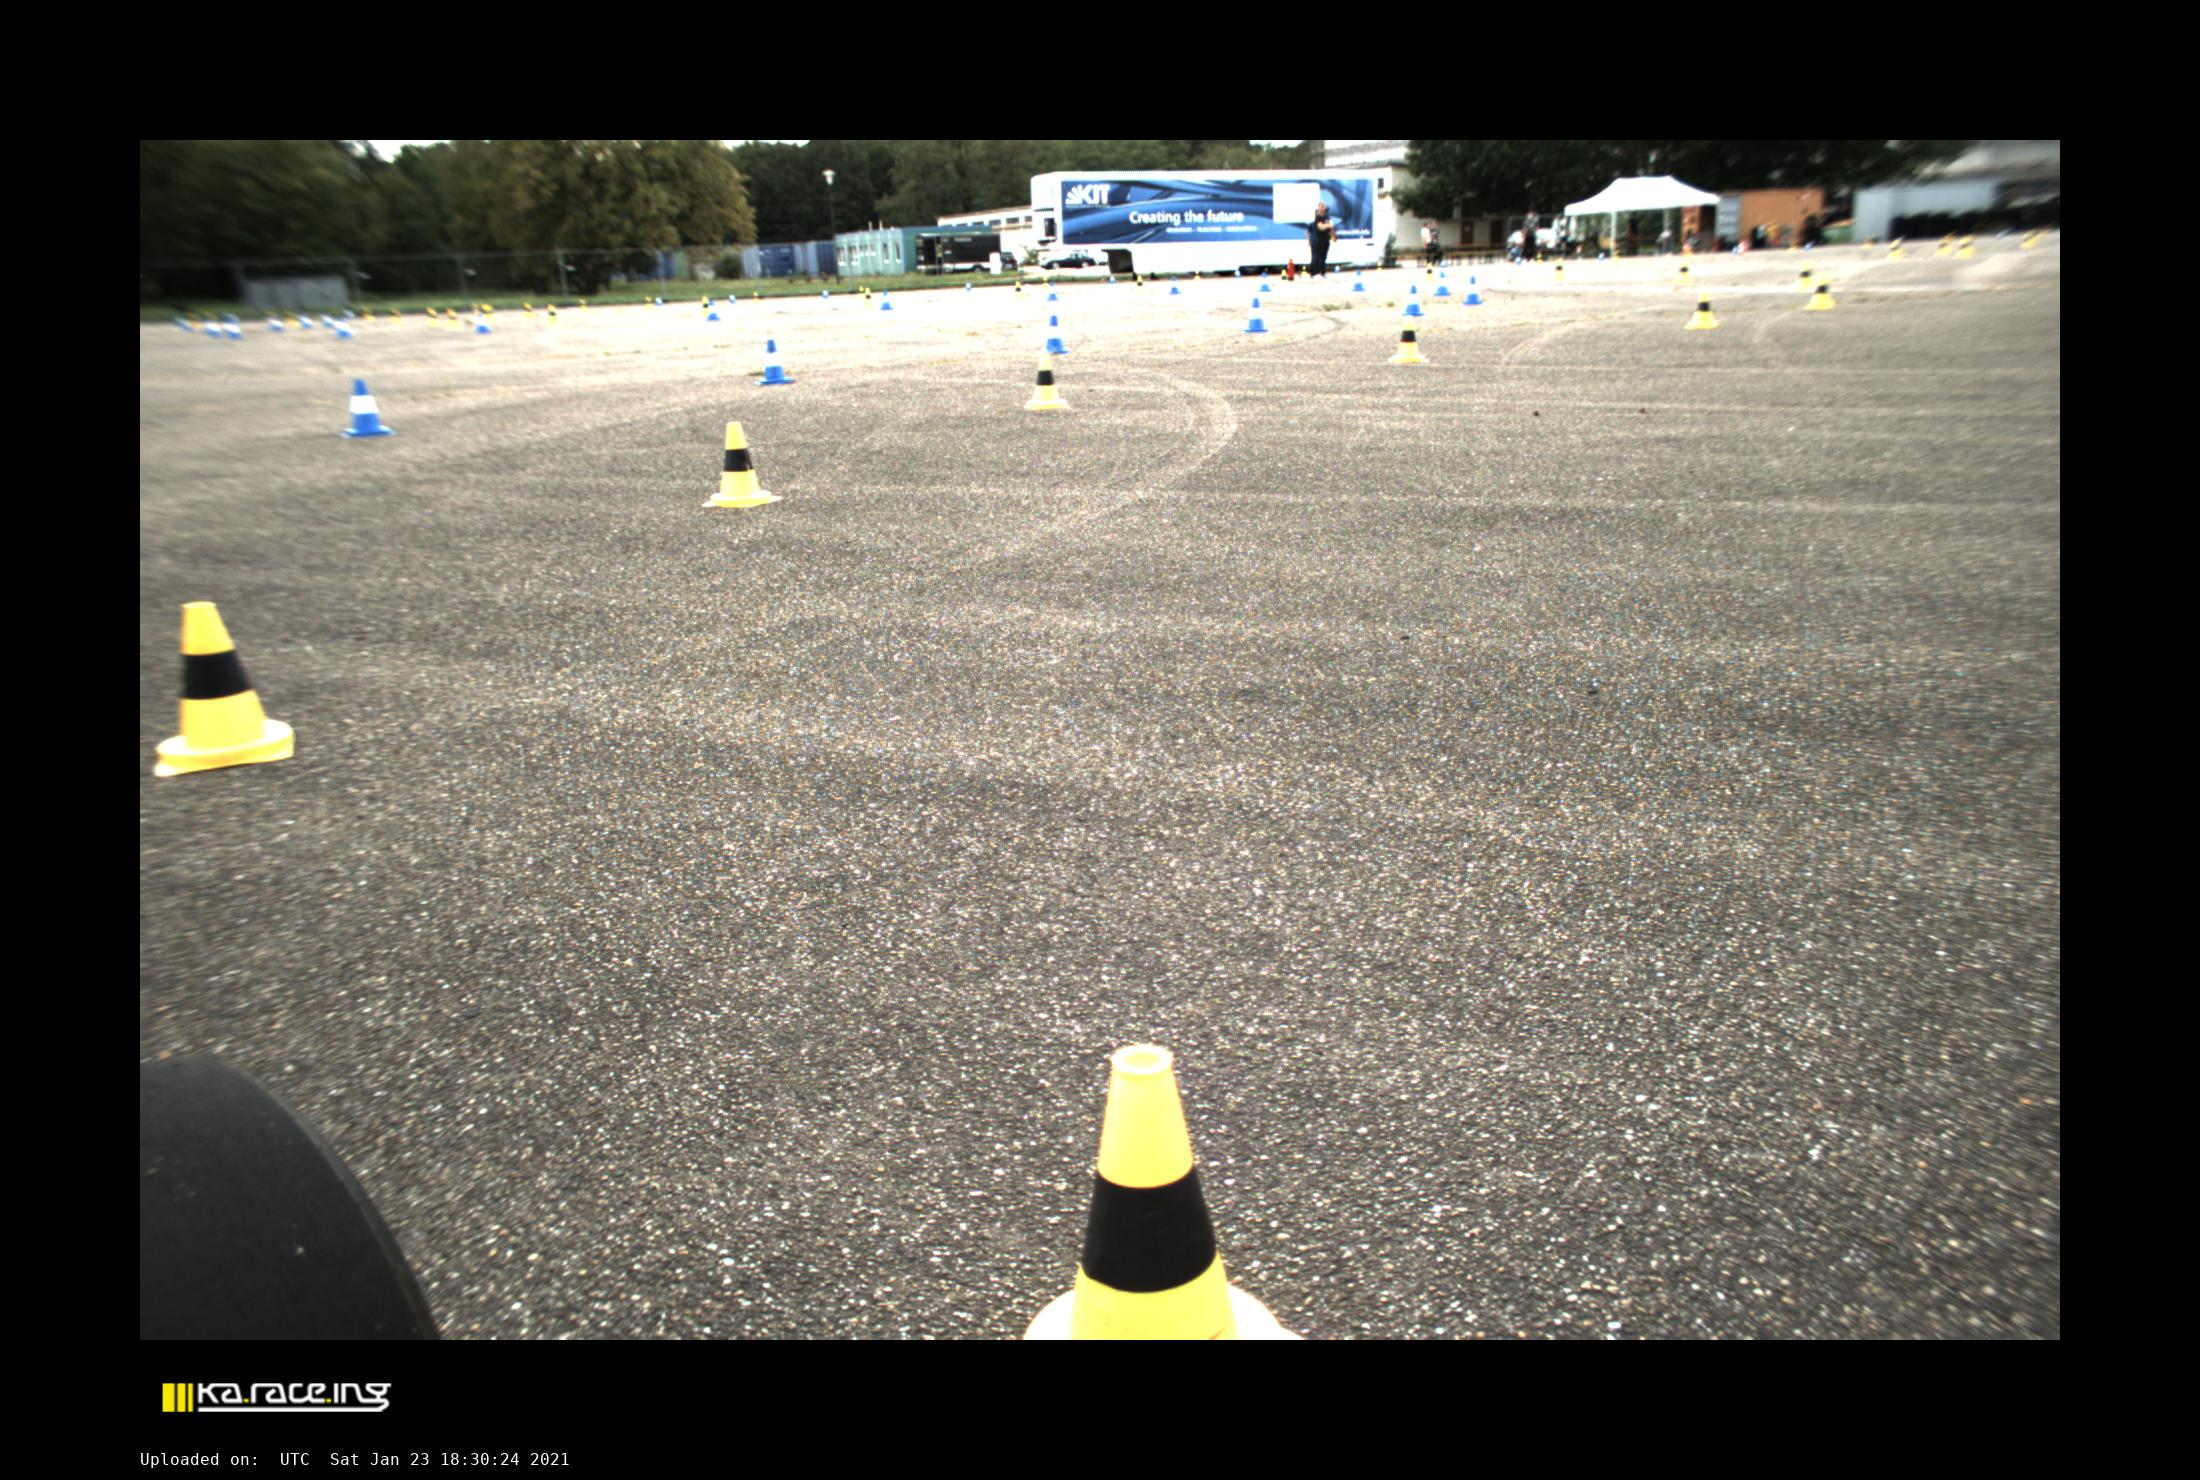blue_cone: (344, 379, 393, 437), (758, 339, 792, 385), (1046, 315, 1069, 354), (1244, 297, 1268, 333), (1401, 285, 1424, 316), (1462, 276, 1482, 305), (1433, 271, 1451, 296), (334, 316, 353, 339), (475, 312, 494, 335), (204, 318, 223, 338), (1351, 270, 1366, 292), (224, 321, 242, 339), (706, 300, 721, 321), (1257, 272, 1272, 292), (879, 290, 894, 310), (298, 312, 314, 329), (176, 317, 193, 332), (1996, 226, 2014, 240), (269, 318, 285, 333), (1169, 276, 1181, 295), (1047, 282, 1059, 301), (226, 313, 242, 324), (321, 314, 333, 328), (1804, 241, 1815, 252), (344, 310, 355, 320), (728, 292, 737, 304), (655, 296, 664, 307), (1731, 243, 1740, 254), (1333, 264, 1342, 274), (822, 288, 830, 299), (1514, 254, 1522, 265), (965, 280, 972, 292), (1108, 274, 1116, 284), (1234, 269, 1242, 279), (1439, 258, 1447, 268), (1598, 251, 1605, 261)
large_orange_cone: (1737, 237, 1747, 255), (1681, 241, 1688, 256)
yellow_cone: (1023, 1044, 1302, 1340), (155, 602, 293, 776), (702, 422, 782, 507), (1023, 354, 1070, 410), (1388, 316, 1428, 364), (1684, 286, 1718, 329), (1803, 271, 1836, 310), (1794, 260, 1817, 292), (1671, 259, 1695, 285), (1953, 234, 1976, 259), (1934, 233, 1953, 256), (2020, 227, 2038, 249), (1550, 258, 1566, 281), (1885, 241, 1902, 261), (547, 303, 561, 325), (427, 307, 442, 327), (481, 303, 496, 323), (446, 309, 460, 329), (187, 311, 202, 329), (862, 288, 875, 308), (1424, 263, 1436, 283), (286, 311, 300, 328), (390, 308, 404, 324), (1134, 275, 1145, 295), (363, 307, 377, 322), (2038, 224, 2053, 238), (1014, 281, 1025, 299), (524, 303, 536, 319), (700, 296, 709, 316), (1280, 269, 1289, 287), (1861, 236, 1873, 249), (579, 298, 588, 312), (752, 291, 761, 305), (645, 295, 653, 309), (1787, 242, 1797, 253), (1193, 270, 1202, 281), (1535, 253, 1544, 264), (1042, 276, 1049, 289), (1611, 251, 1620, 261), (858, 285, 864, 299), (1376, 261, 1383, 273), (1684, 248, 1692, 258), (473, 303, 480, 314), (1301, 265, 1308, 276)
